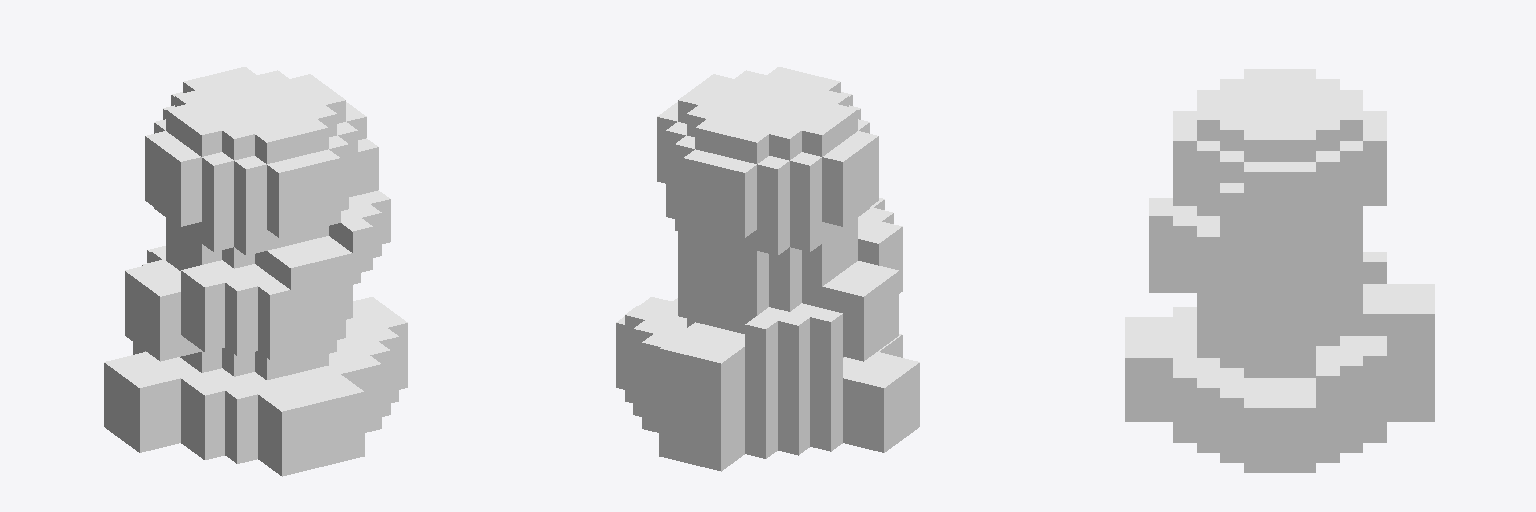
File: mag0.obj
3 views of the same model, side by side, from view 1: azimuth 30°, elevation 25°; view 2: azimuth 150°, elevation 25°; view 3: azimuth 270°, elevation 25° (orthographic).
Parts seen in each view (by area): view 1: object 1; view 2: object 1; view 3: object 1.
Part boxes in pixels (bbox=[...]): object 1: bbox=[104, 67, 407, 476]; object 1: bbox=[616, 67, 919, 471]; object 1: bbox=[1125, 69, 1434, 472].
Bounding box in the file's own units: 1.3 × 1.4 × 1.3.